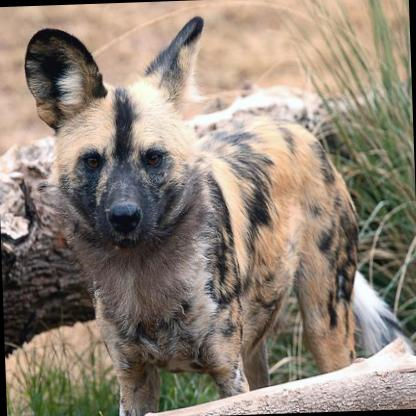African_hunting_dog: (21, 7, 413, 416)
